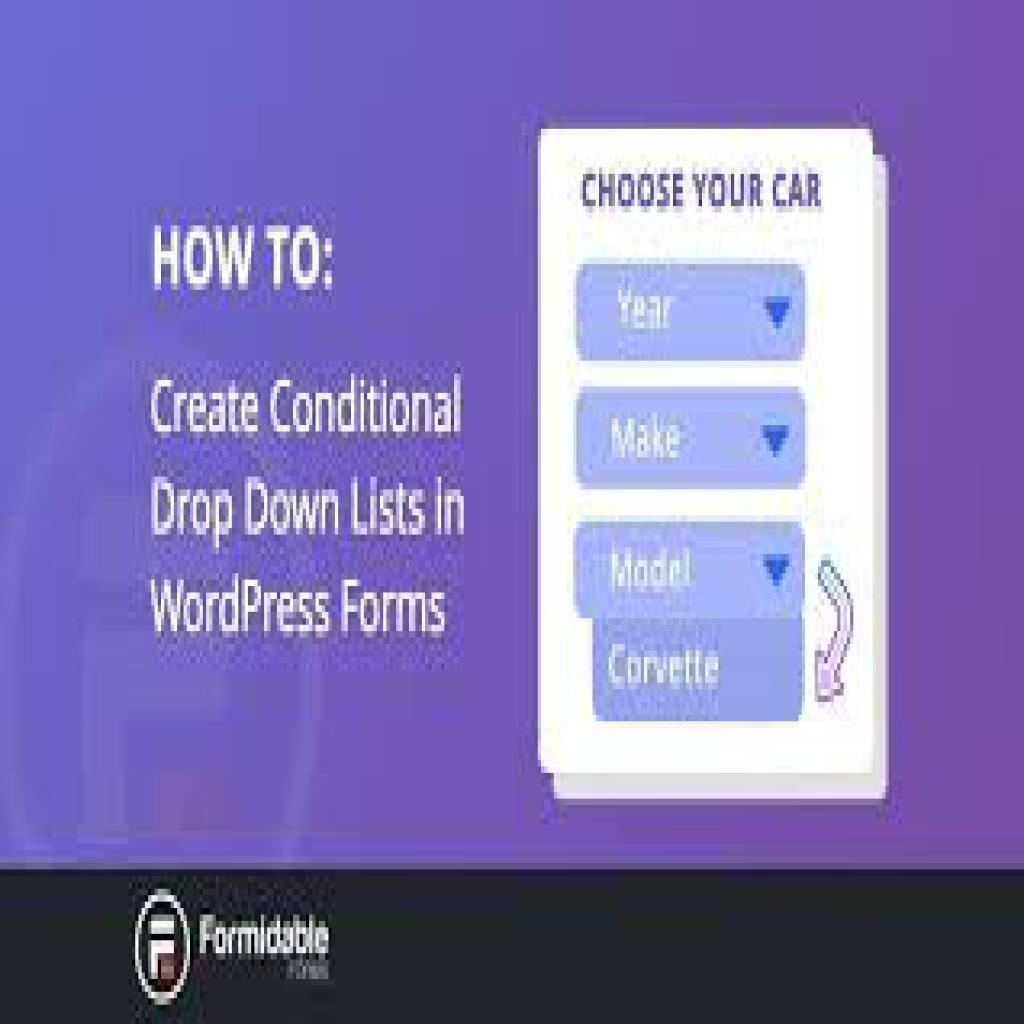button: (595, 621, 804, 724)
dropdown: (575, 389, 810, 490), (577, 266, 808, 364), (577, 523, 807, 619)
